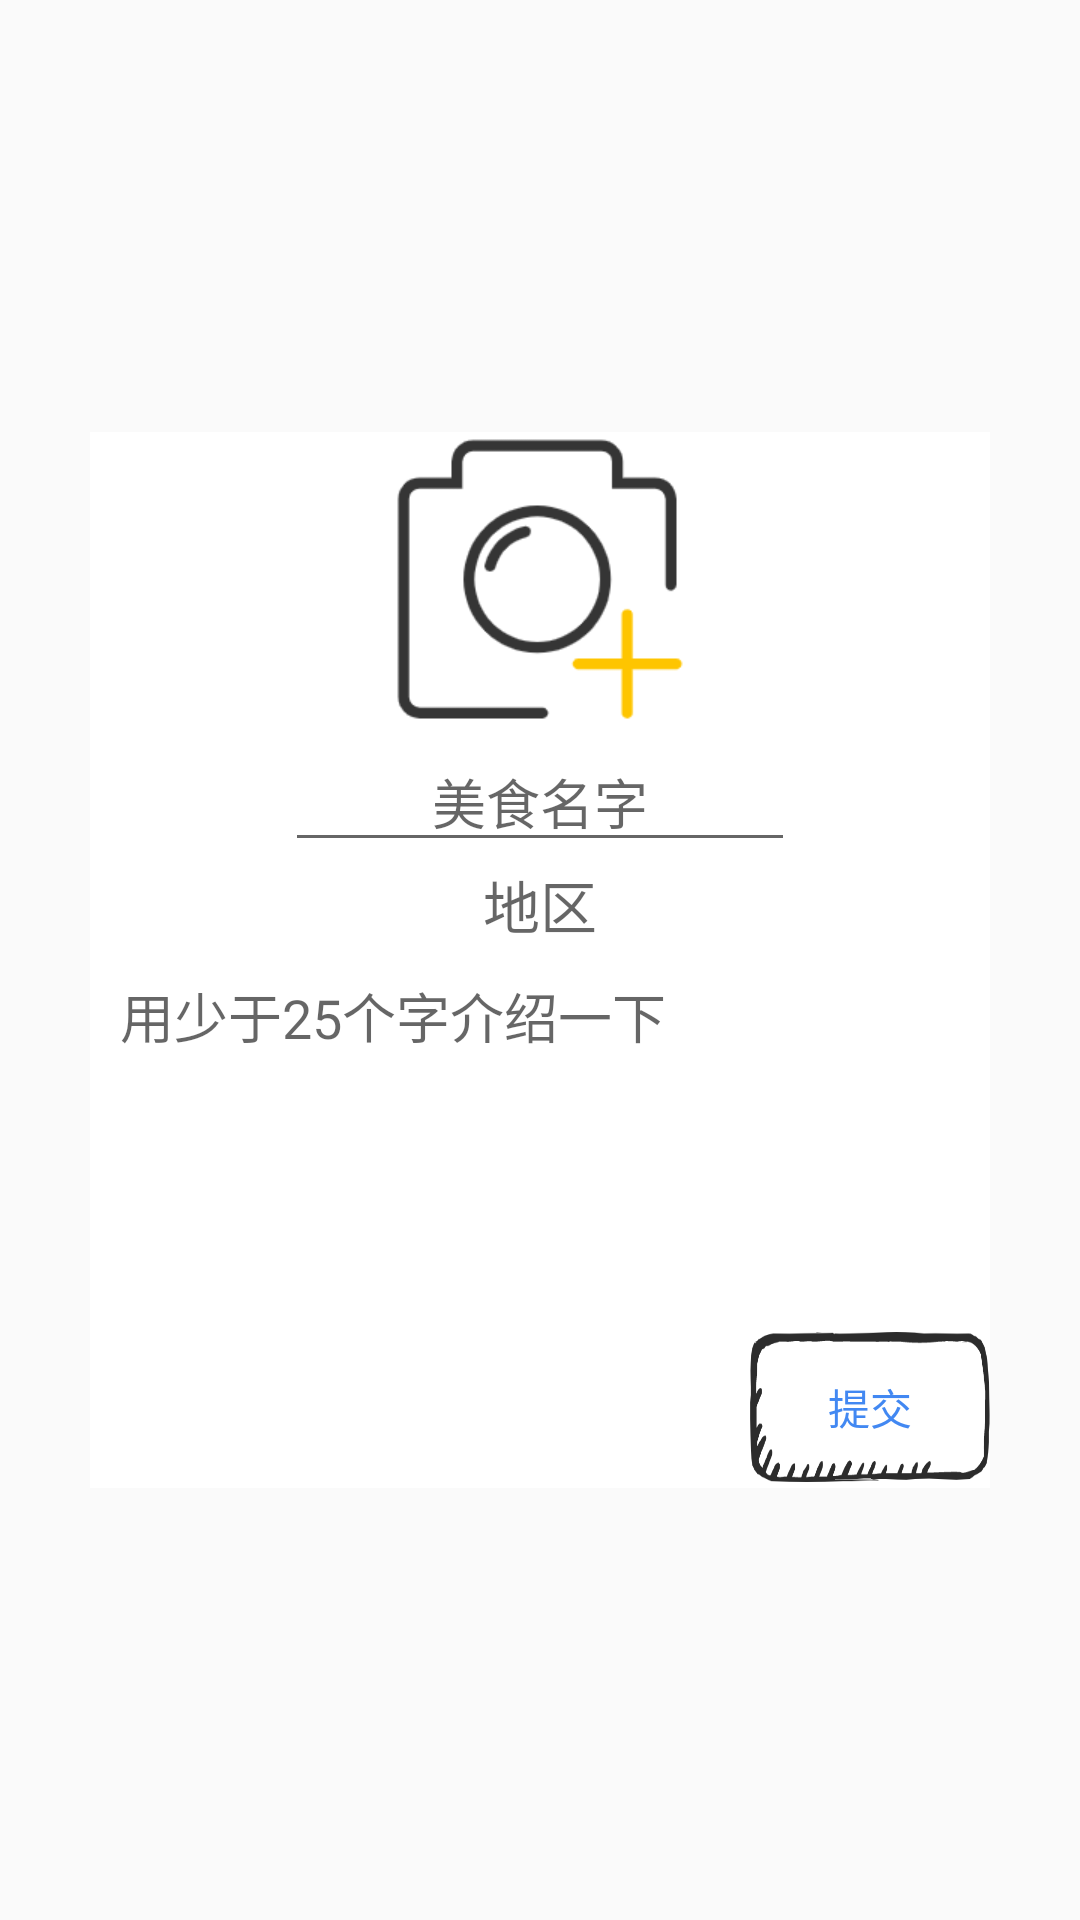

Point at icon controls on the screen. Image size 1080x1920, points as [x,y].
add picture: [540,579]
